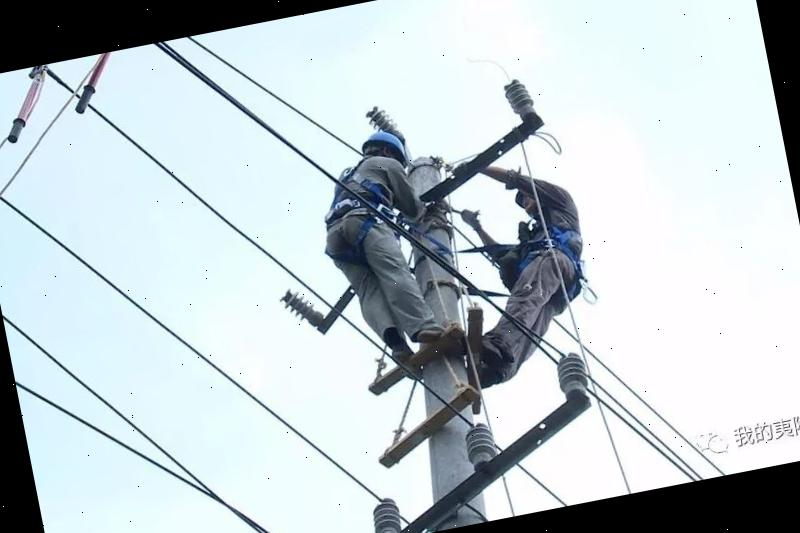helmet: (358, 123, 411, 166)
wear: (317, 150, 419, 255), (513, 201, 589, 291)
